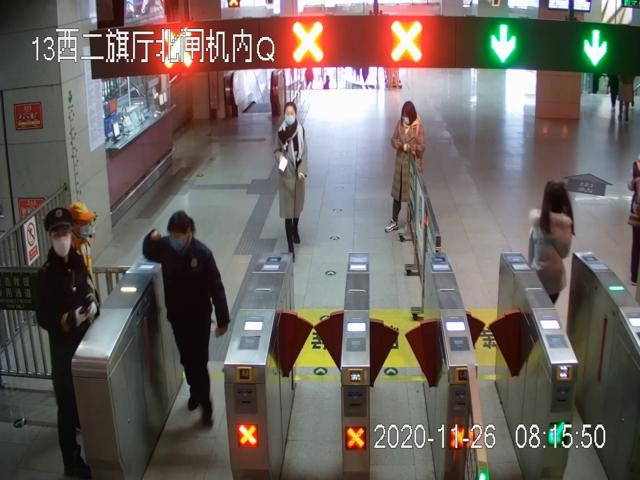person: (36, 209, 100, 480), (149, 208, 227, 430), (385, 102, 427, 236), (274, 99, 308, 260)
